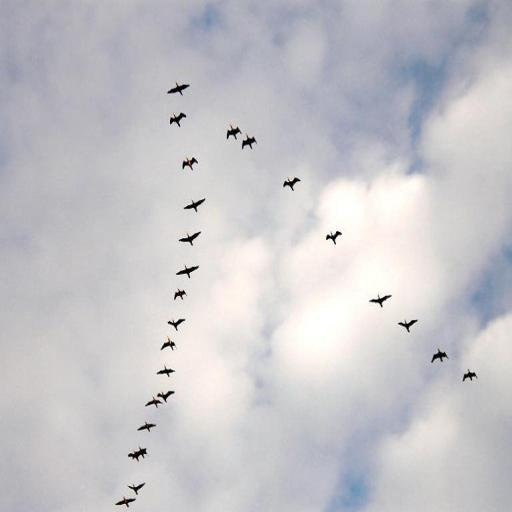birds: (368, 289, 394, 312), (184, 194, 207, 217), (176, 261, 200, 283), (167, 80, 191, 102), (177, 229, 202, 249), (397, 316, 420, 336), (159, 334, 180, 354), (180, 153, 200, 174), (127, 445, 150, 463), (325, 228, 344, 249), (431, 346, 450, 367), (167, 315, 186, 335), (168, 112, 188, 130), (225, 123, 243, 143), (116, 494, 137, 511), (137, 419, 158, 436), (240, 133, 258, 152), (127, 480, 147, 497), (282, 176, 302, 193), (171, 286, 189, 304), (144, 396, 164, 411), (155, 365, 176, 379), (461, 368, 480, 383), (158, 389, 176, 404)
